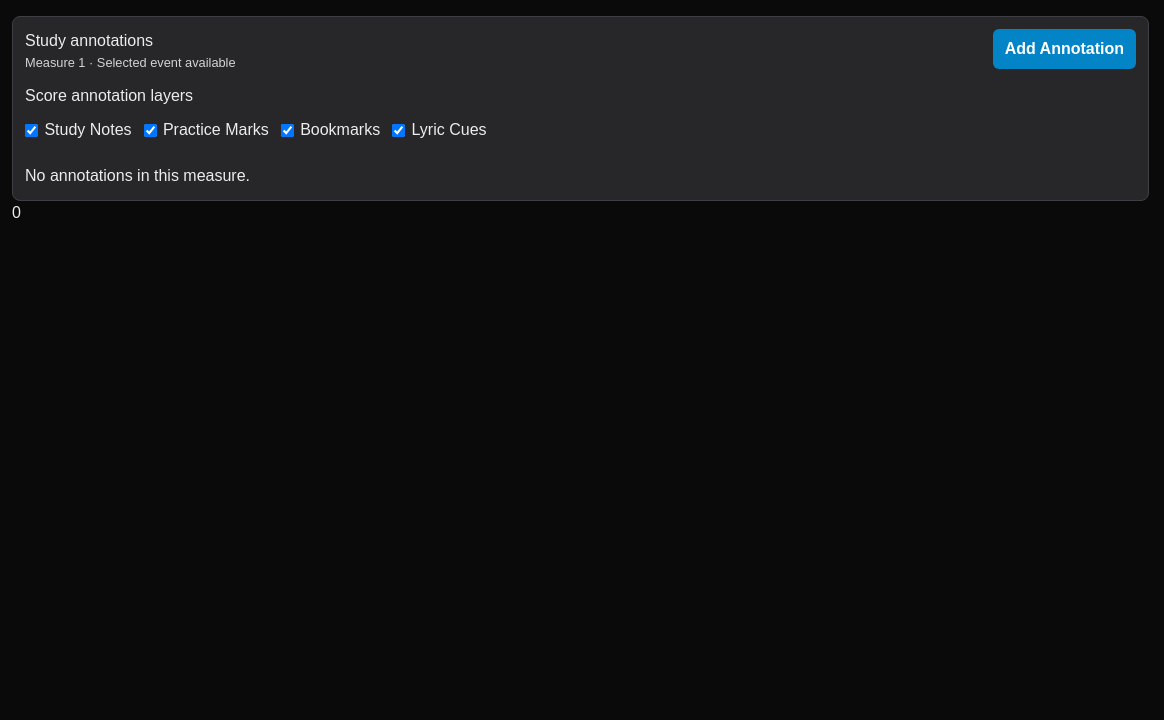
Scenario: StaffBuilderAnnotationsPanel › authors exact categorized Bookmarks
This screenshot has width=1164, height=720.
Click the button "Add Annotation" at (1064, 49), box [993, 29, 1136, 69]
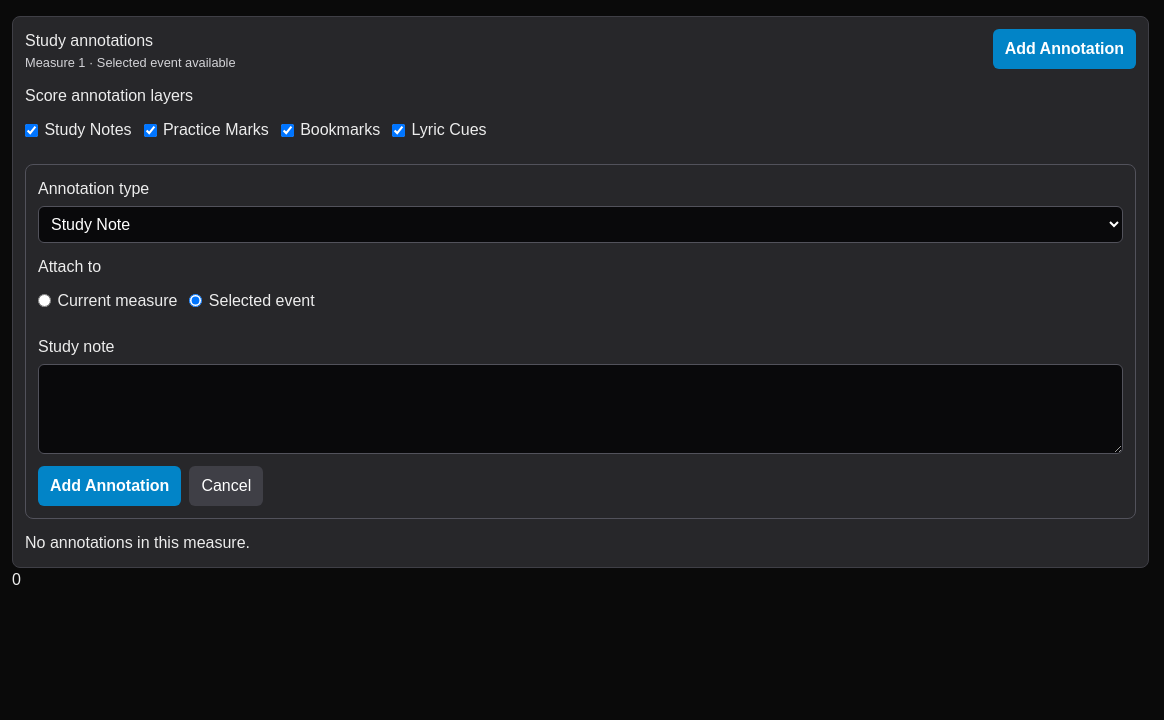
Select "Bookmark" in the dropdown labelled "Annotation type" at (580, 224), box [38, 206, 1123, 243]
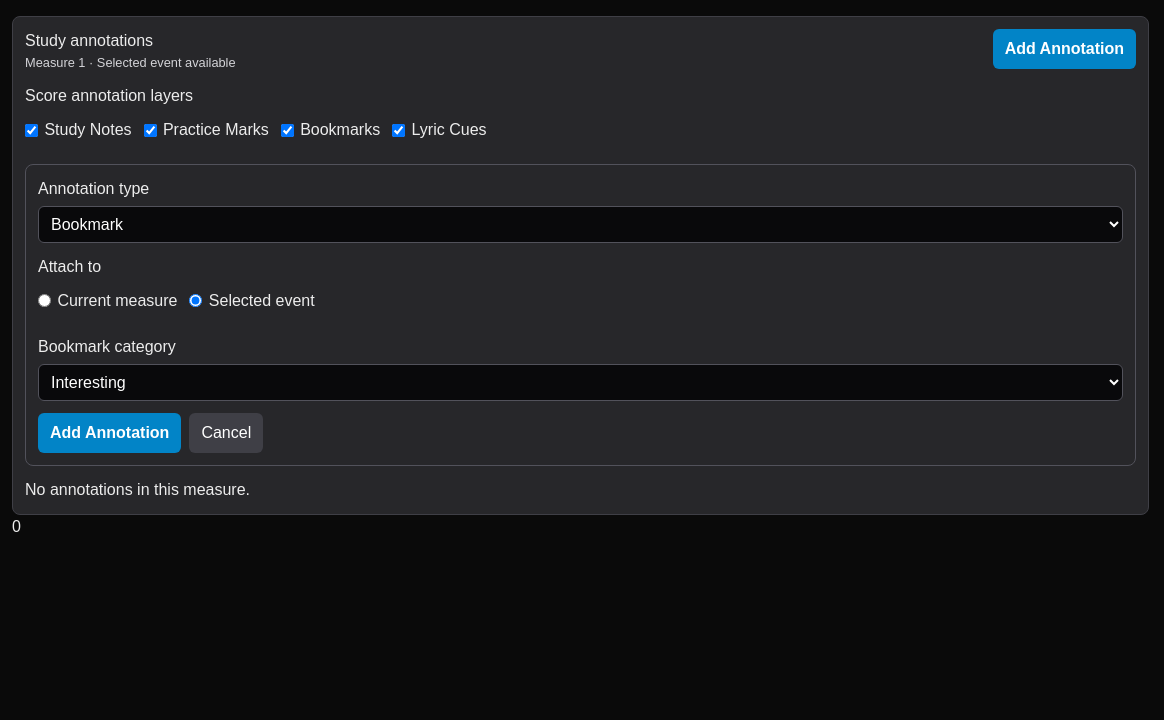
Select "Question" in the dropdown labelled "Bookmark category" at (580, 382), box [38, 364, 1123, 401]
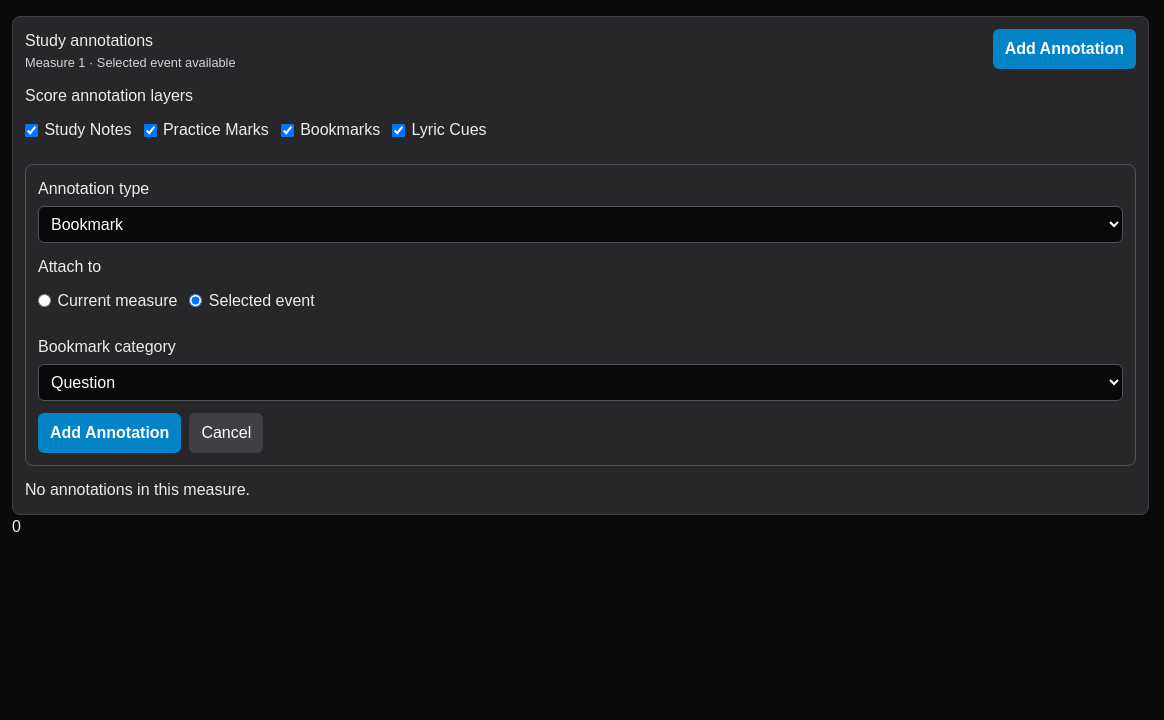
Click the button "Add Annotation" below "Bookmark category" at (110, 433), box [38, 413, 181, 453]
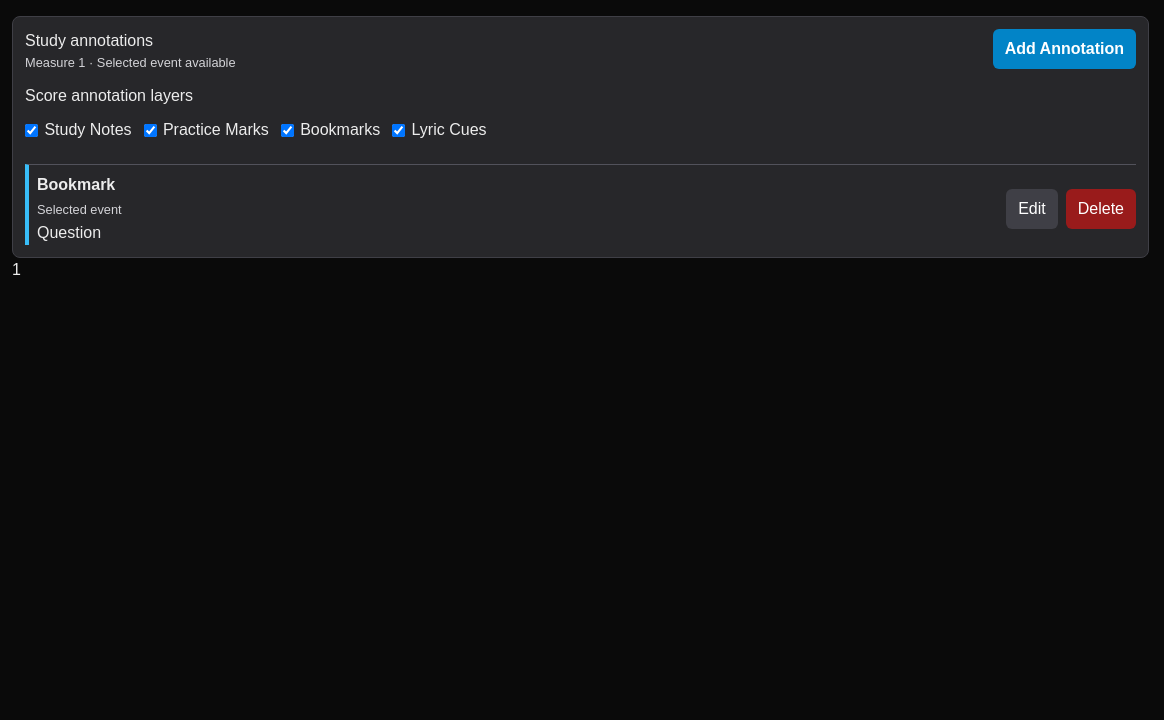
Expected: the text "Question" is shown, [37, 224, 101, 241]
